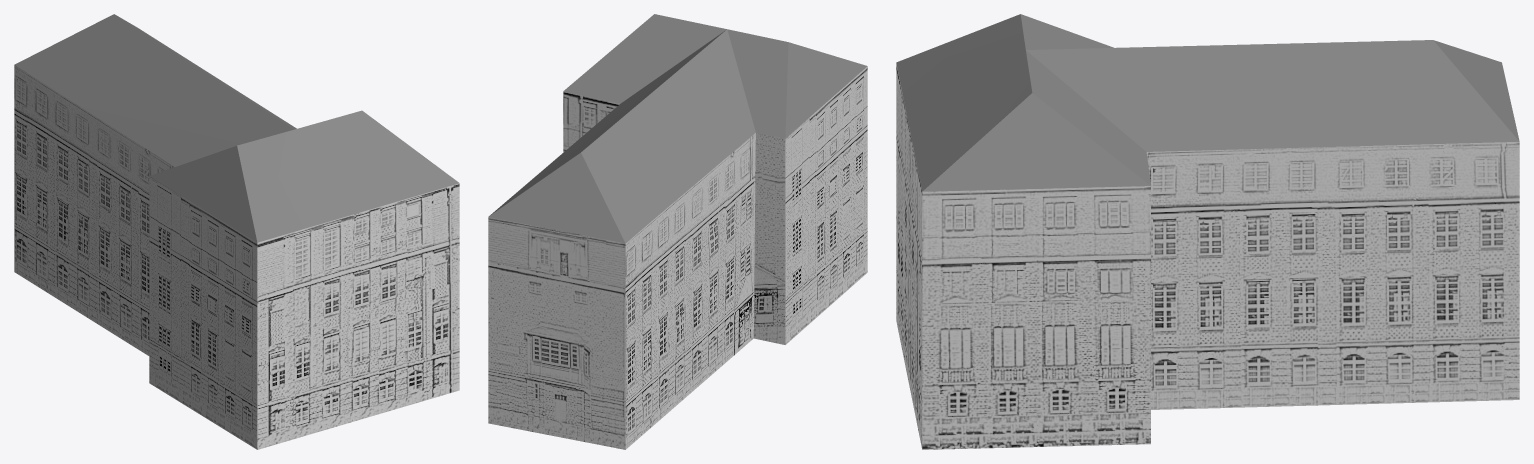
Rendered from Koenig-Bau.gltf.
The picture shows the model from 3 angles, left to right: view 1: azimuth 30°, elevation 25°; view 2: azimuth 150°, elevation 25°; view 3: azimuth 270°, elevation 25°; orthographic projection. The views are drawn at different scales.
Visible parts, largest first — view 1: Dach.1; view 2: Dach.1; view 3: Dach.1.
Part boxes in pixels (x1=…): Dach.1: x1=14, y1=14, x2=459, y2=449; Dach.1: x1=488, y1=14, x2=867, y2=449; Dach.1: x1=896, y1=14, x2=1519, y2=449.
Size of the model in its own units: 22.34 by 24.68 by 42.94.
Materials: 9 (8 with a texture image).
